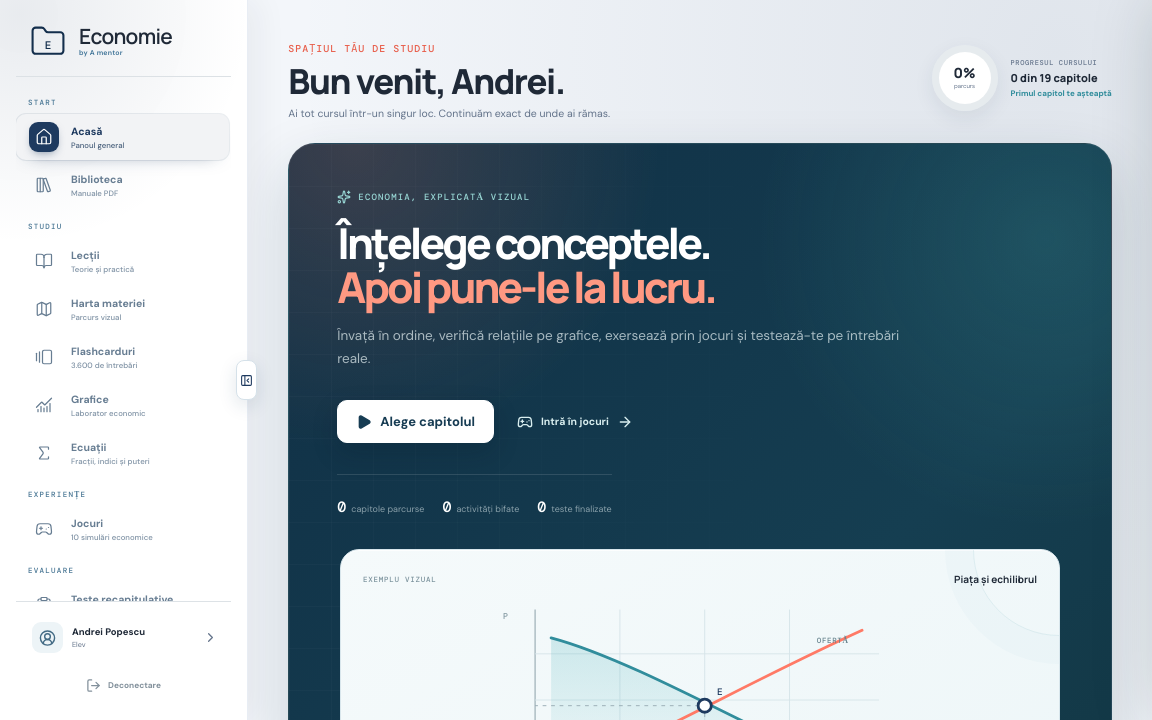
Test: application flow › opens flashcards and records progress inside the fixed study screen
Earlier steps of the test are not shown.
Check: the navigation bar named "Navigare principală" is shown, box [16,86,231,601]
Step 1. Click the button "Flashcarduri 3.600 de întrebări" → (122, 357), box [16,334,229,380]
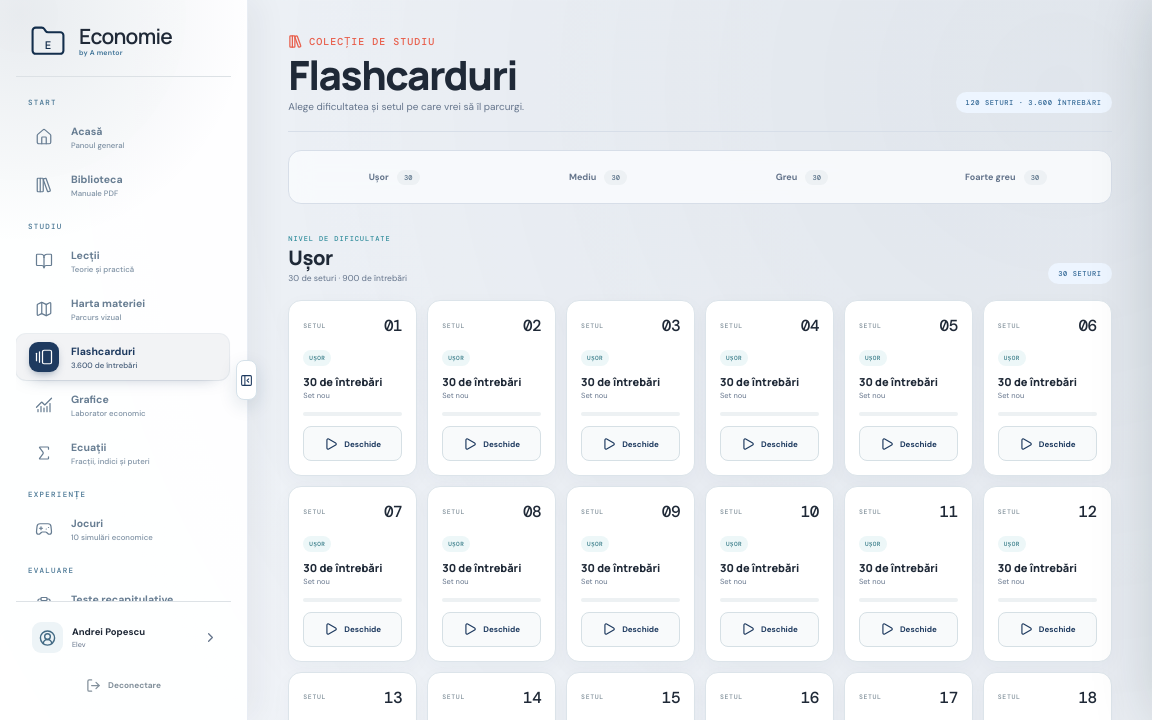
Check: the heading "Flashcarduri" is shown, box [288,55,524,95]
Check: the number of elements with class "flashcards-deck-tile" is 120
Step 2. Click the button with aria-label "Deschide Ușor, setul 01" → (353, 444), box [303,426,402,461]
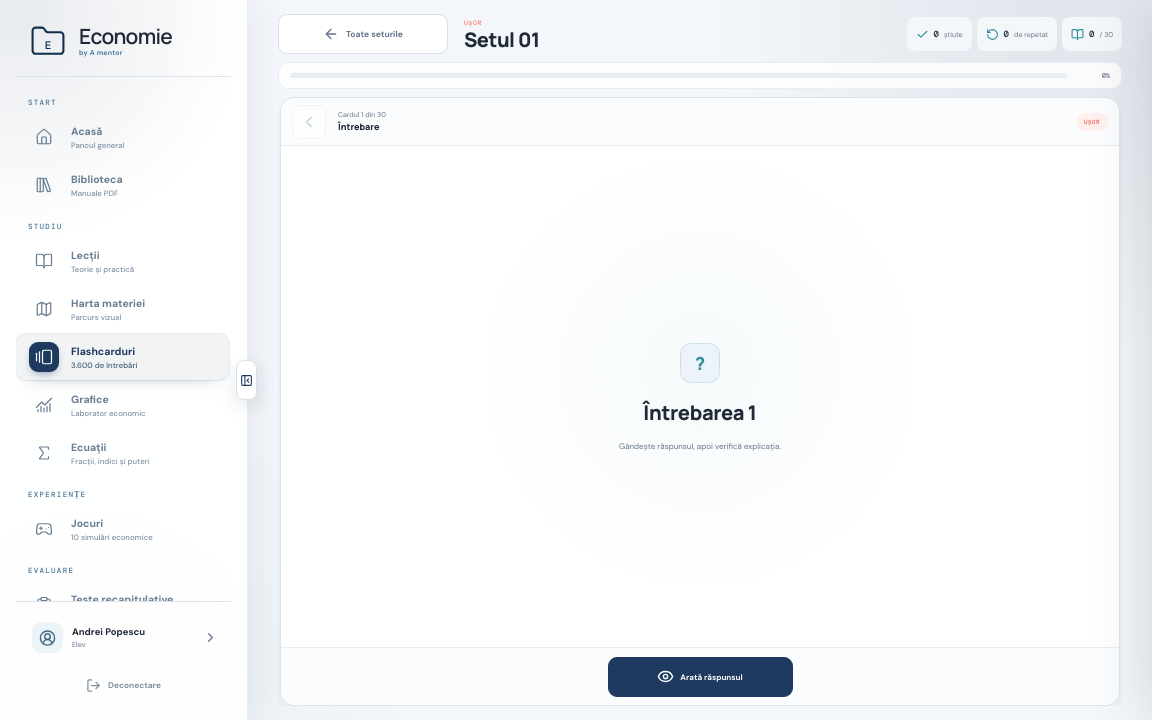
Check: the heading "Întrebarea 1" is shown, box [643,398,757,426]
Step 3. Click the button "Arată răspunsul" → (700, 676), box [608,656,792,696]
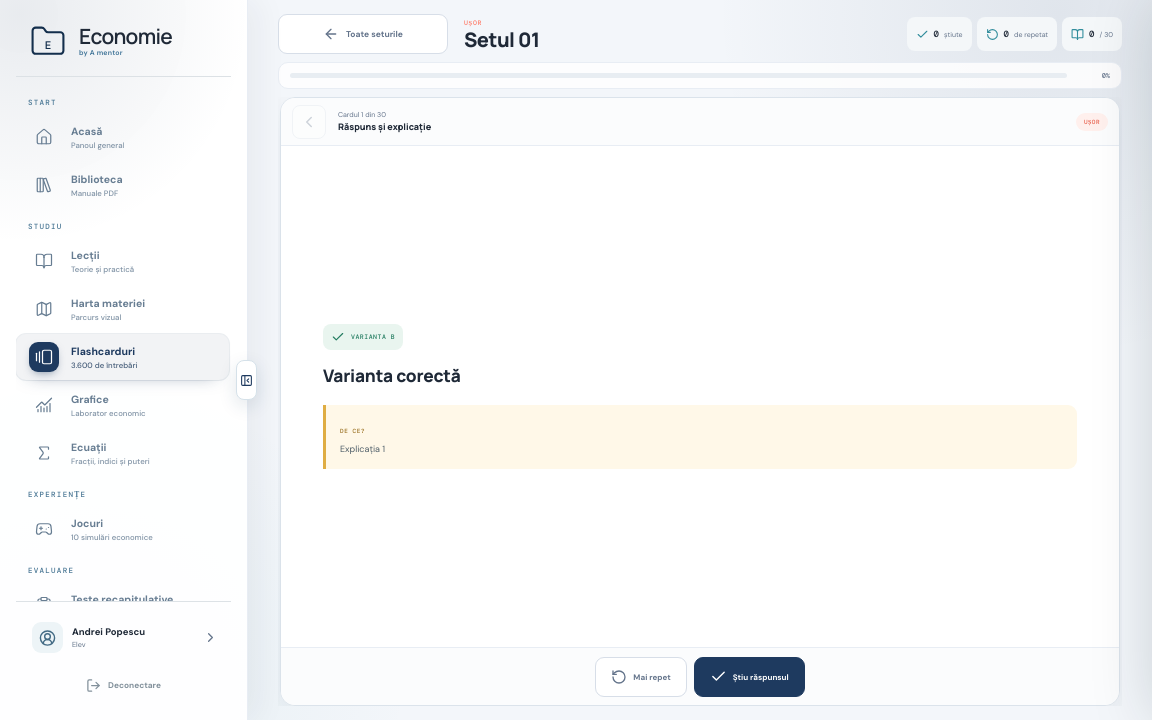
Check: the heading "Varianta corectă" is shown, box [323,364,461,388]
Step 4. Click the button "Știu răspunsul" → (749, 676), box [694,656,805,696]
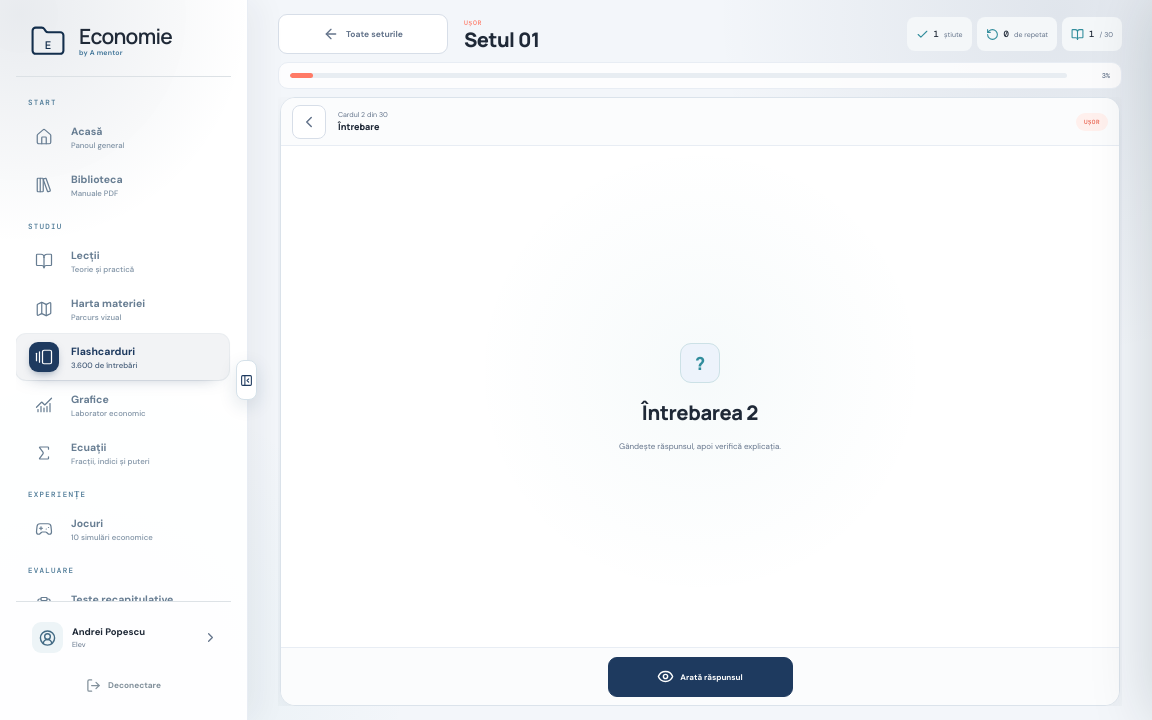
Check: the text "Cardul 2 din 30" is shown, box [338,110,388,119]
